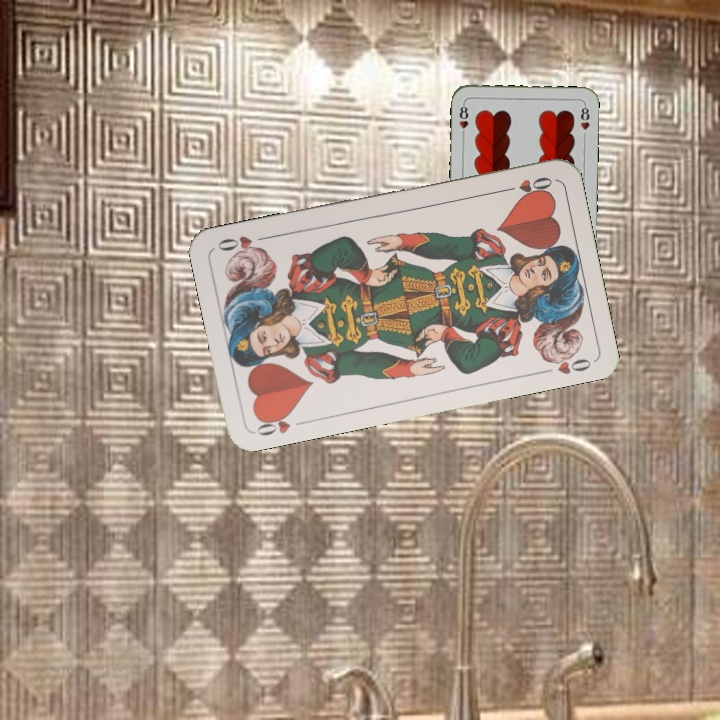H8: (455, 99, 471, 140)
HO: (497, 172, 555, 197), (251, 407, 295, 439)
